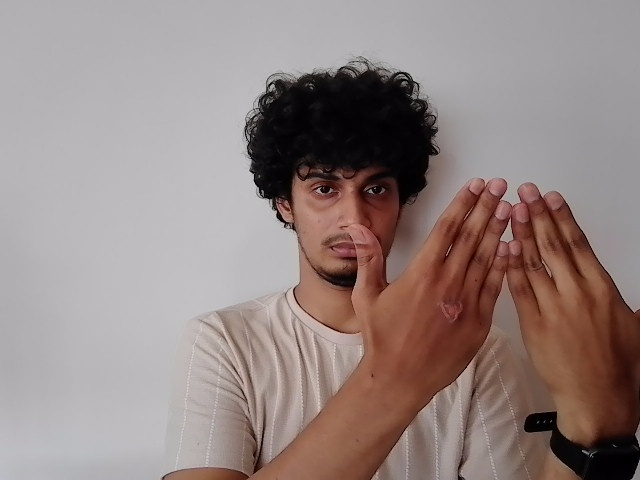thankyou: (342, 175, 640, 401)
